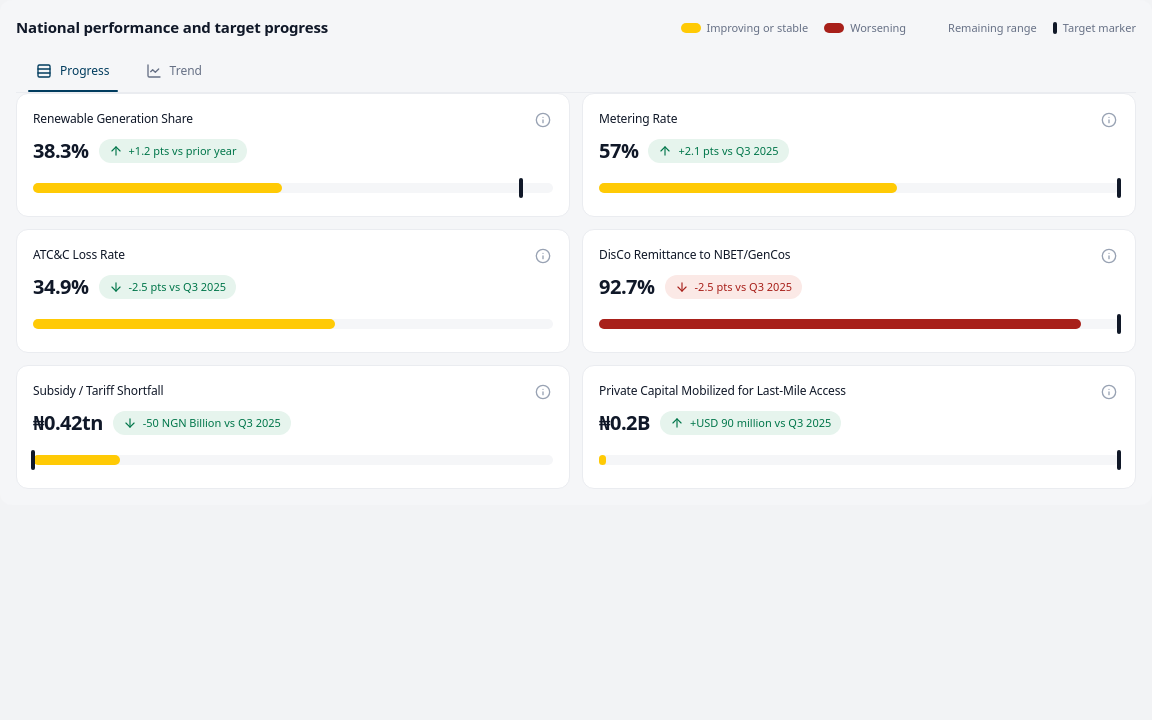
it: Section C — national performance › uses concise institution sources and no validation badges
Click the button named "About Renewable Generation Share" at point(543, 120), box [533, 110, 553, 130]
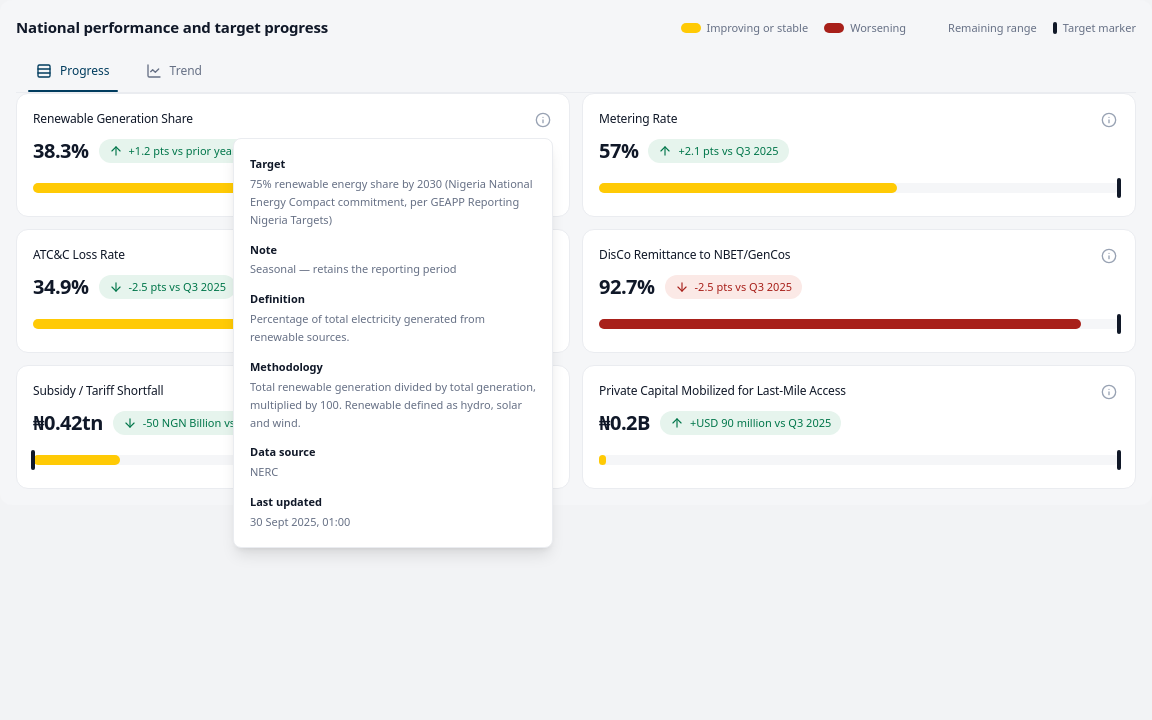
Check: the dialog does not show "NERC Q3 2025 Report generation-by-source table", box [233, 138, 553, 548]
Check: the text "NERC" is shown, box [250, 464, 278, 479]
